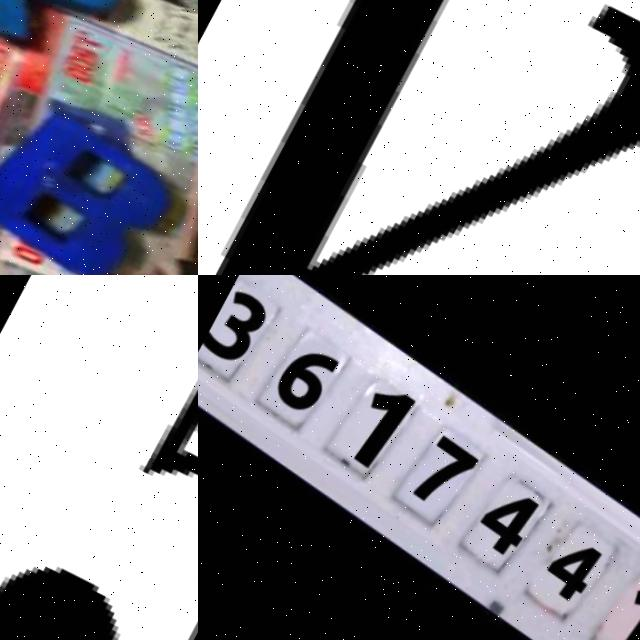1: (313, 363, 423, 486), (577, 566, 640, 640)
3: (198, 275, 286, 384)
4: (447, 464, 556, 586), (513, 515, 620, 635)
5: (0, 275, 198, 640)
6: (247, 319, 356, 439)
7: (383, 417, 491, 537)
B: (0, 86, 190, 275)
P: (0, 0, 146, 92)
V: (198, 0, 640, 275)
